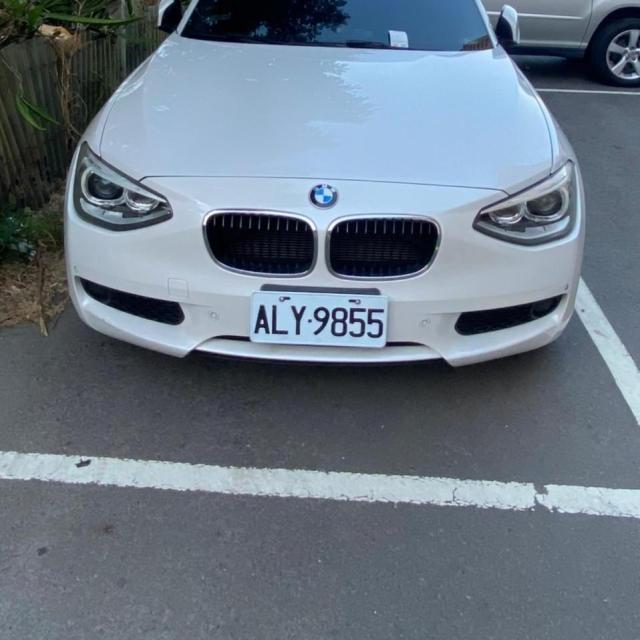W: (242, 284, 400, 352)
